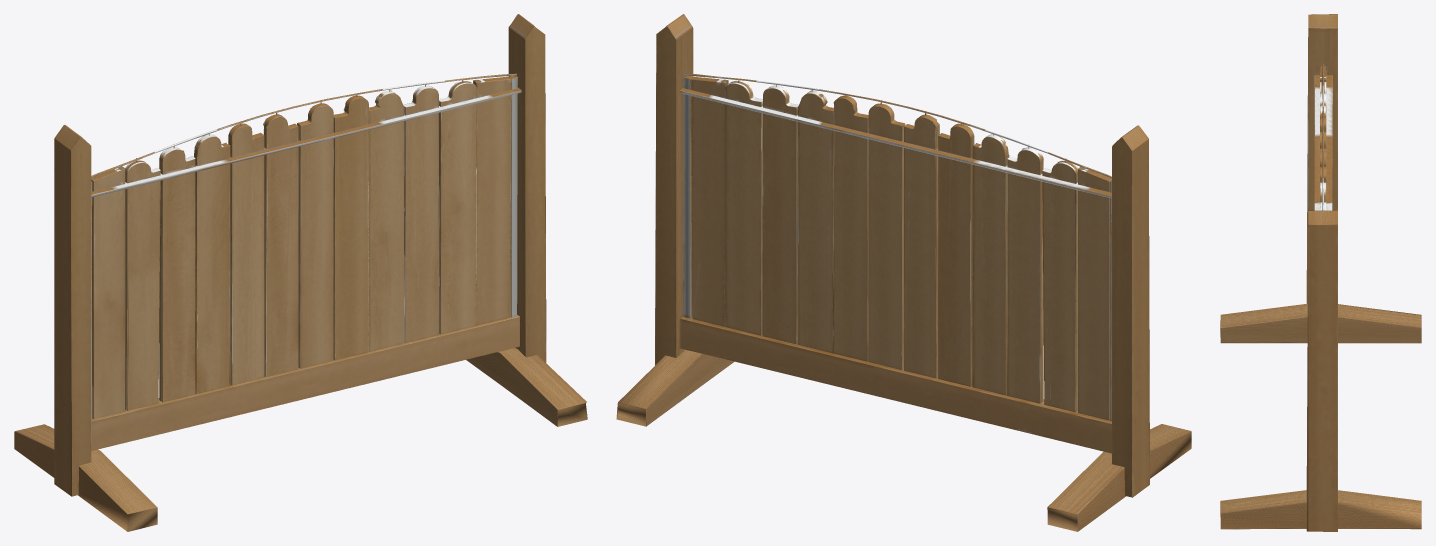
File: jump_filler.glb
The picture shows the model from 3 angles, left to right: view 1: azimuth 30°, elevation 25°; view 2: azimuth 150°, elevation 25°; view 3: azimuth 270°, elevation 25°; orthographic projection. The views are drawn at different scales.
Visible parts, largest first — view 1: jump_filler; view 2: jump_filler; view 3: jump_filler.
Part boxes in pixels (x1,y1,x2,y2): jump_filler: [14, 14, 587, 531]; jump_filler: [616, 14, 1191, 531]; jump_filler: [1220, 14, 1421, 531].
Bounding box in the file's own units: 0.9039 × 0.65 × 0.3734.
1 material, 1 textured.
